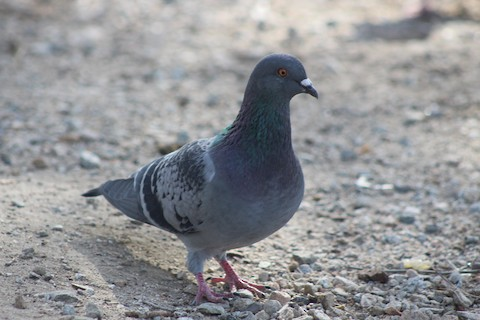pigeon: (78, 50, 321, 302)
